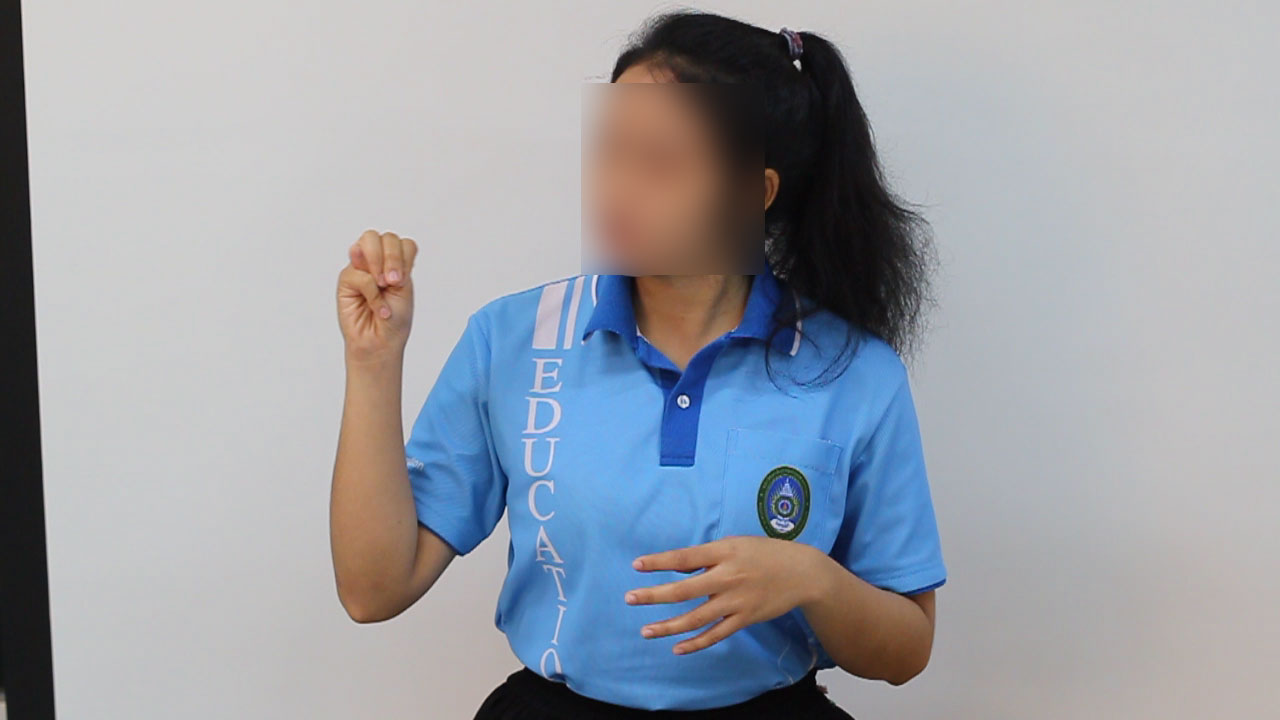mor: (321, 214, 431, 381)
